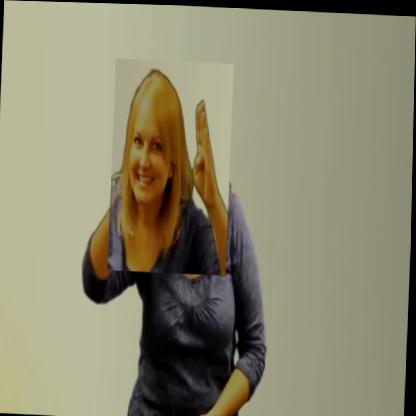Hello: (109, 57, 234, 274)
